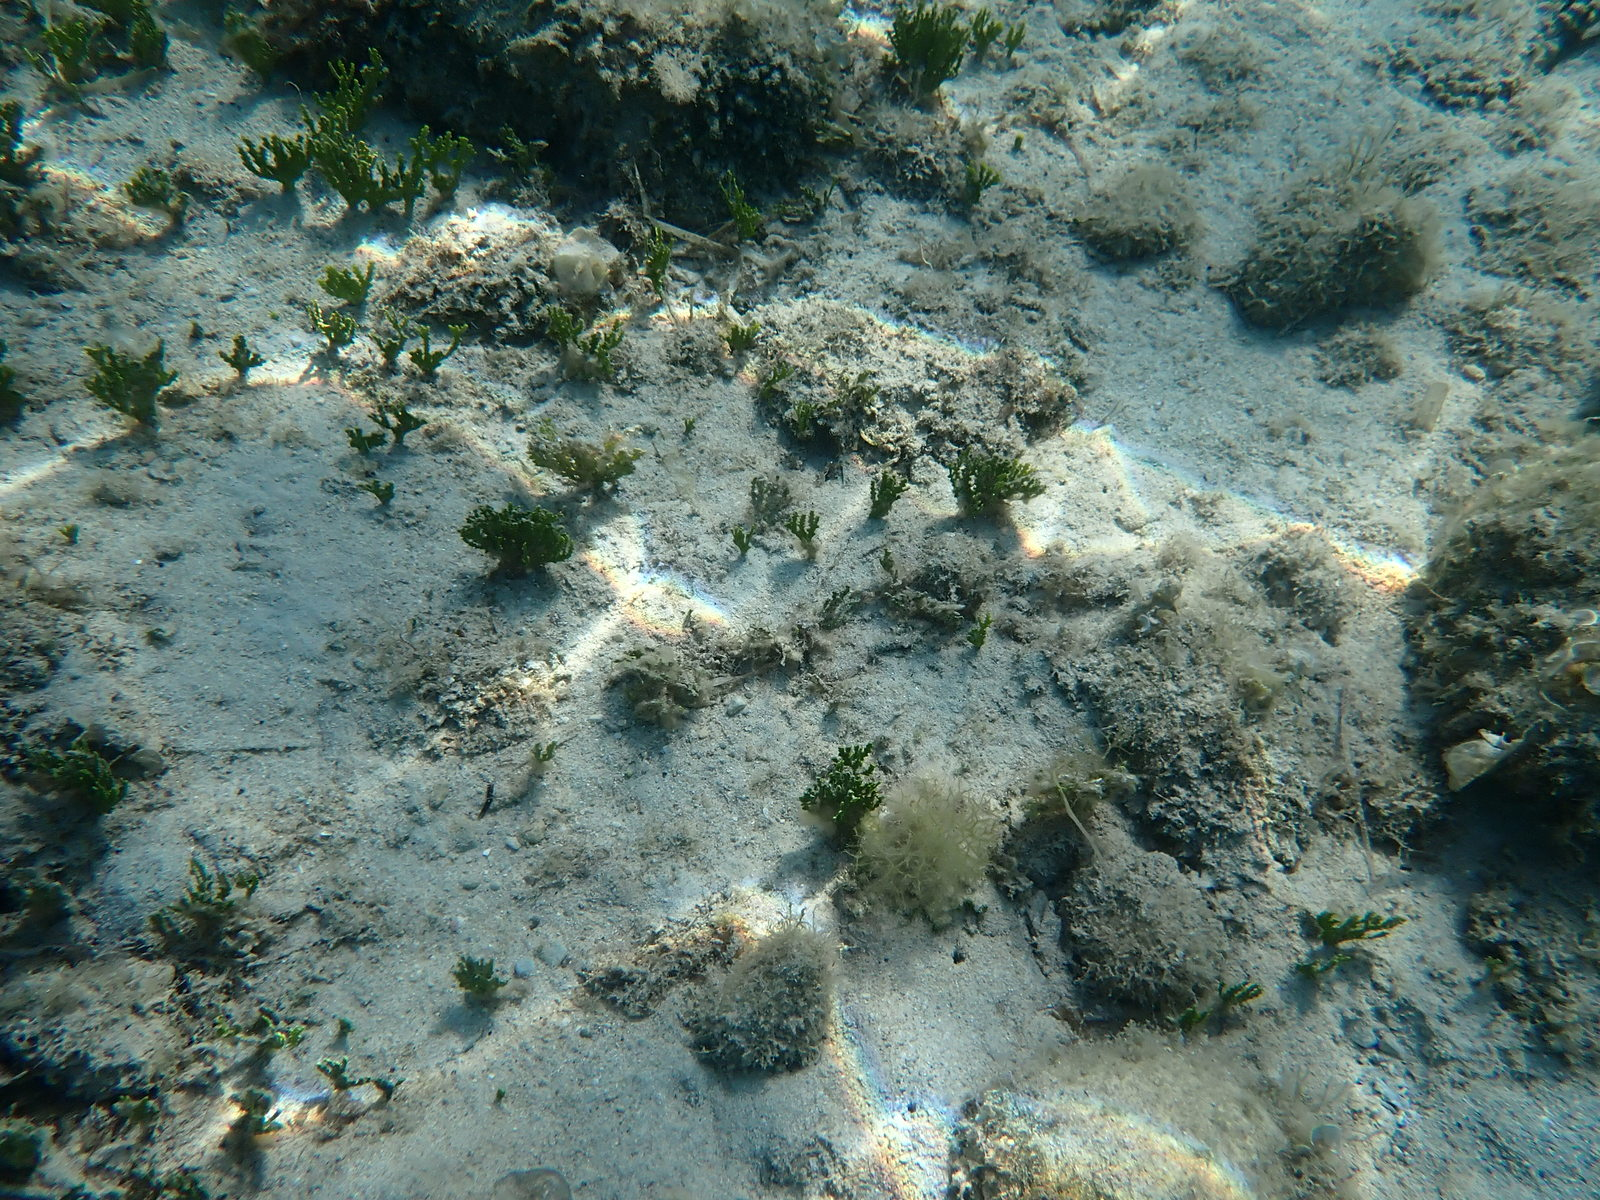halimeda: (299, 44, 389, 216), (324, 127, 431, 212), (83, 340, 179, 434), (799, 737, 893, 827), (459, 503, 574, 575), (528, 431, 648, 488), (884, 1, 970, 79), (951, 442, 1049, 508), (236, 135, 317, 195), (413, 125, 475, 203), (52, 754, 130, 802), (1317, 904, 1407, 942), (723, 171, 769, 245), (408, 324, 465, 379), (450, 953, 509, 1005), (45, 15, 92, 79), (306, 297, 362, 350), (180, 858, 231, 916), (312, 260, 379, 303), (218, 326, 268, 382), (370, 405, 430, 447), (367, 309, 411, 366), (231, 1085, 283, 1129), (316, 1053, 370, 1092), (122, 166, 173, 207), (871, 469, 910, 521), (750, 475, 792, 522), (149, 903, 191, 947), (968, 8, 1004, 58), (644, 228, 674, 286), (585, 315, 627, 355), (546, 301, 585, 345), (261, 1013, 307, 1046), (961, 160, 1002, 194), (1, 96, 24, 151), (1216, 979, 1264, 1005), (842, 374, 881, 405), (792, 397, 819, 440), (1304, 953, 1352, 976), (727, 321, 761, 353), (761, 364, 796, 395), (372, 1068, 408, 1097), (1003, 16, 1027, 58), (530, 739, 564, 768), (969, 613, 993, 652), (796, 184, 837, 207), (24, 47, 53, 76), (229, 870, 260, 897), (365, 478, 396, 505), (821, 586, 850, 613), (1180, 1003, 1207, 1030), (346, 427, 370, 456), (729, 527, 753, 553), (881, 550, 898, 579), (59, 523, 81, 542), (774, 200, 797, 212), (684, 413, 694, 435)
